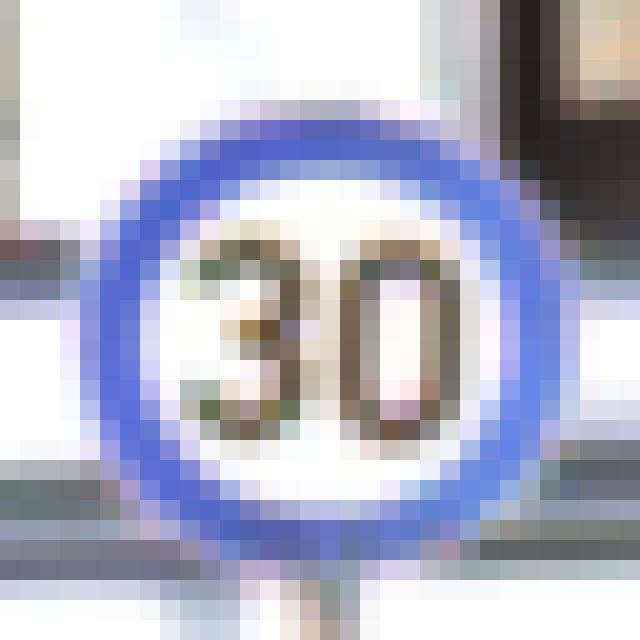SPEED LIMIT 30: (120, 156, 542, 544)
